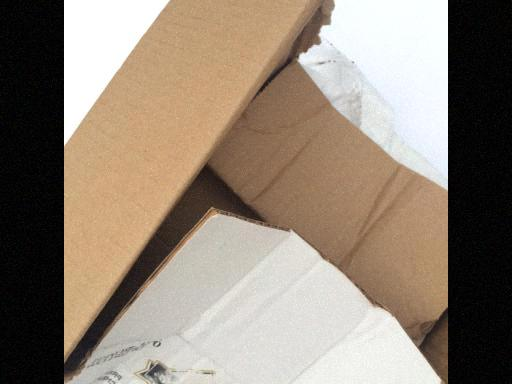cardboard: (66, 5, 444, 382)
